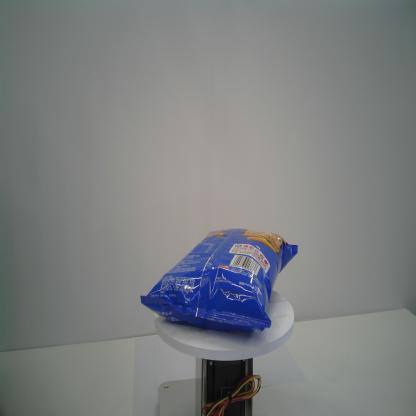Puffed Food: (139, 226, 299, 334)
